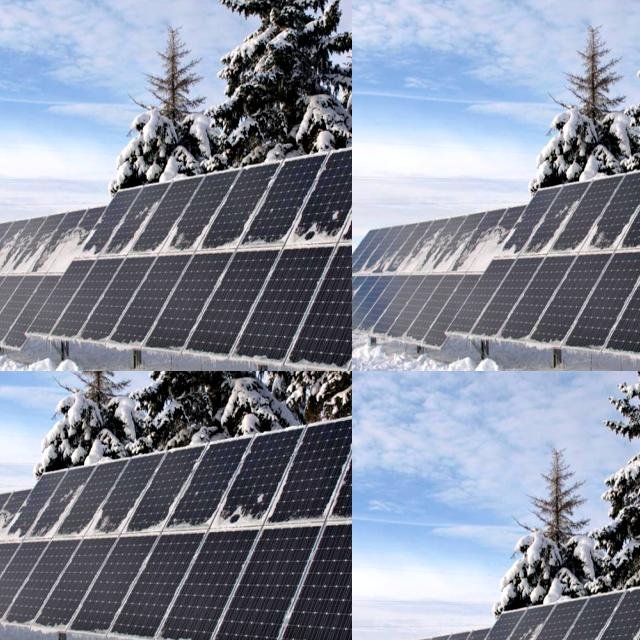crack: (0, 371, 159, 493), (23, 371, 180, 437), (70, 371, 188, 416), (0, 371, 86, 419), (84, 371, 183, 410), (0, 371, 77, 409), (11, 371, 99, 403), (0, 371, 57, 411), (40, 371, 118, 400)
dust: (352, 135, 520, 268), (352, 273, 545, 371), (352, 0, 507, 122), (525, 13, 640, 129), (533, 135, 640, 244), (569, 265, 640, 371), (385, 0, 578, 24)
panel: (527, 610, 577, 640)
shadow: (175, 0, 237, 47), (172, 52, 230, 92), (104, 0, 128, 92), (260, 0, 287, 71), (0, 62, 18, 118), (133, 0, 222, 8), (235, 0, 257, 14), (184, 0, 206, 9)
